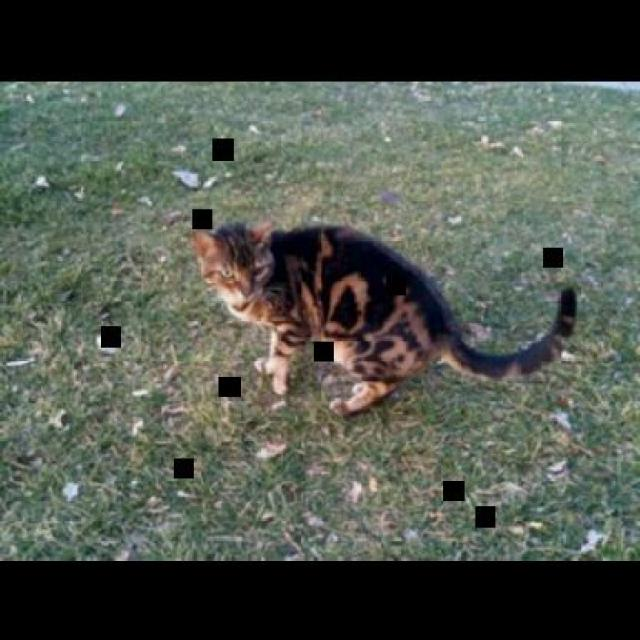unauthorized: (189, 218, 577, 418)
